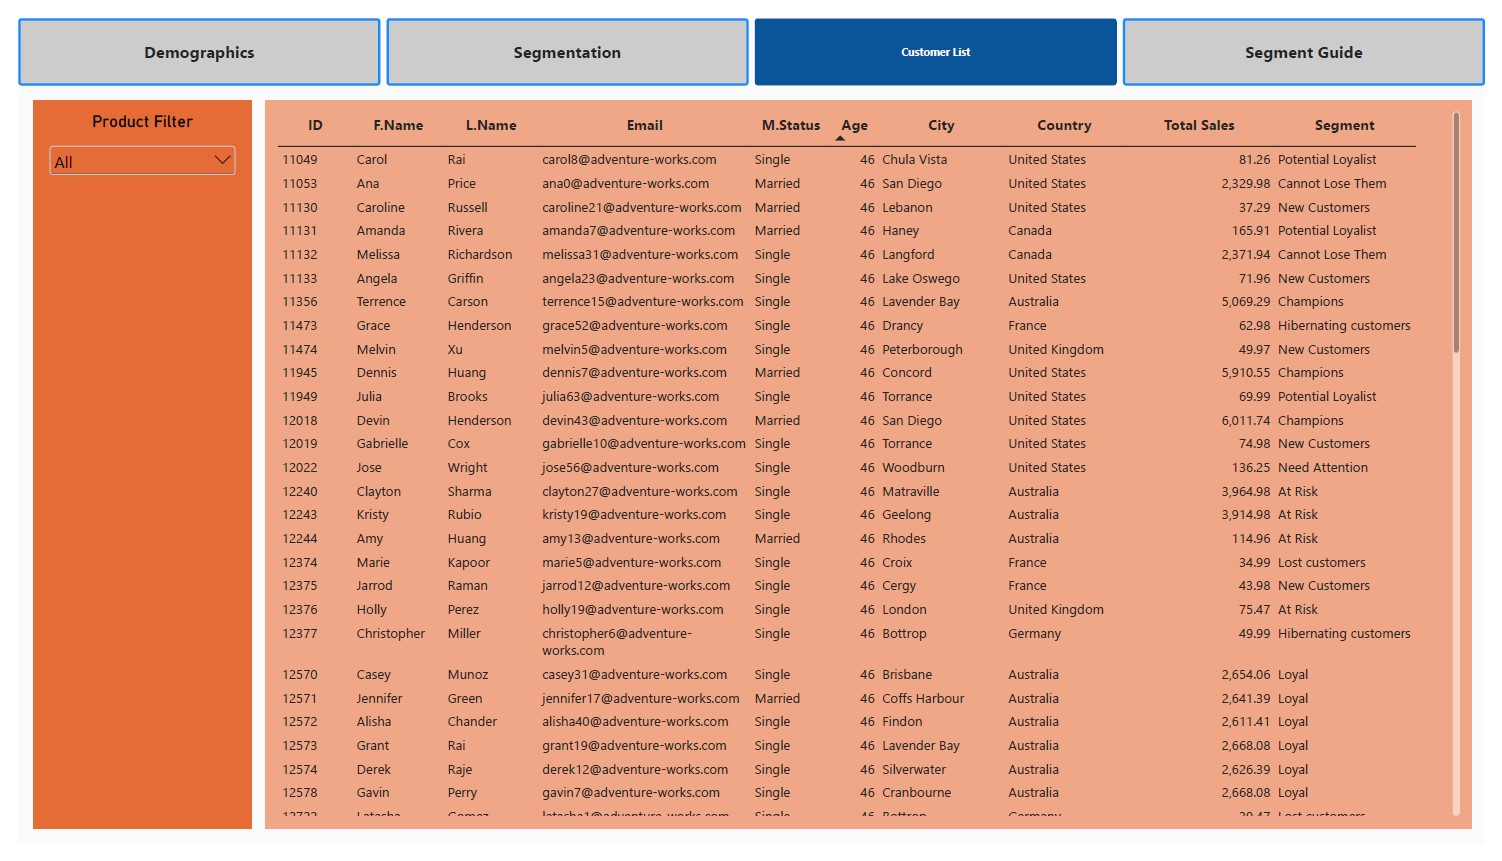

The page's visual inventory and layout, read from the dashboard file:
{"tool":"powerbi","page":{"name":"Customer List","canvas":[1920,1080],"ordinal":2},"visuals":[{"type":"tableEx","fields":{"Values":["DimCustomer.CustomerKey","DimCustomer.FirstName","DimCustomer.LastName","DimCustomer.EmailAddress","DimCustomer.MaritalStatus","DimCustomer.Age","DimGeography.City","DimGeography.Country","Sum(FactInternetSales.SalesAmount)","Segment Table.Segment"]},"box":[322.5,107.5,1580,952.5],"z":0},{"type":"slicer","title":"Product Filter","fields":{"Values":["DimProduct.ProductName"]},"box":[20,107.5,285,952.5],"z":1000},{"type":"pageNavigator","box":[0,0,1920,87.5],"z":2000}]}

Visuals, with their boxes in screenshot pixels (x1, y1, x2, y2), scaled from the page's 1920x1080 canvas onto the 1502x861 screenshot:
tableEx - DimCustomer.CustomerKey x DimCustomer.FirstName: box=[252, 86, 1488, 845]
"Product Filter" slicer: box=[16, 86, 239, 845]
pageNavigator: box=[0, 0, 1501, 70]
